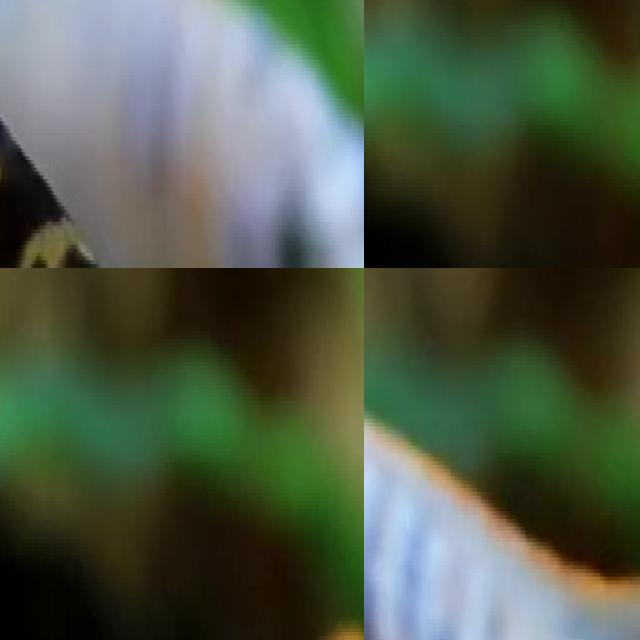fish: (0, 0, 364, 268), (364, 349, 640, 640)
